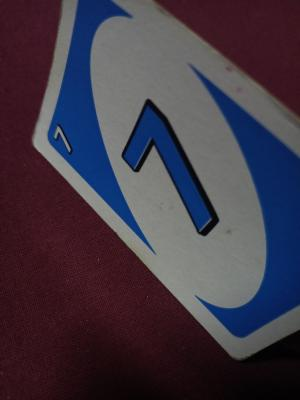blue: (75, 8, 210, 215)
num_7: (42, 127, 80, 155)
